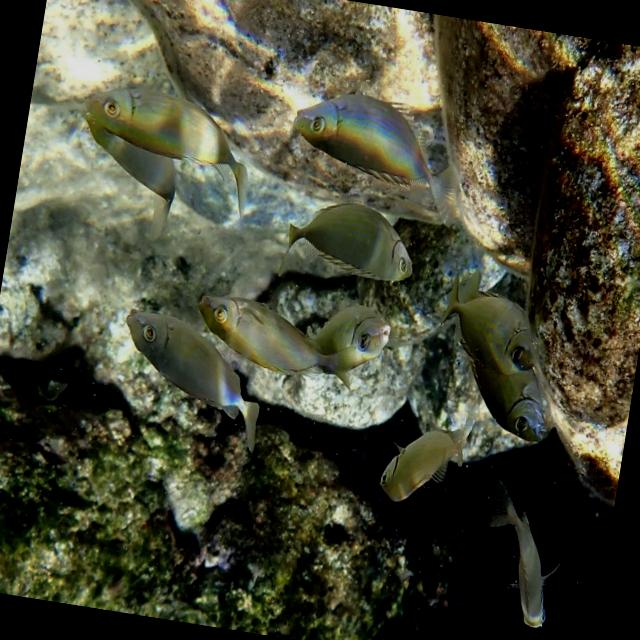Sokar Baligi: (100, 302, 281, 456), (266, 187, 428, 300), (368, 404, 474, 522)
